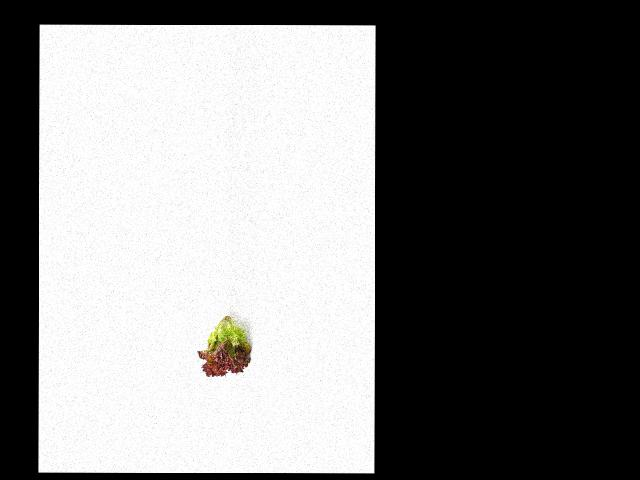lettuce: (199, 307, 252, 380)
